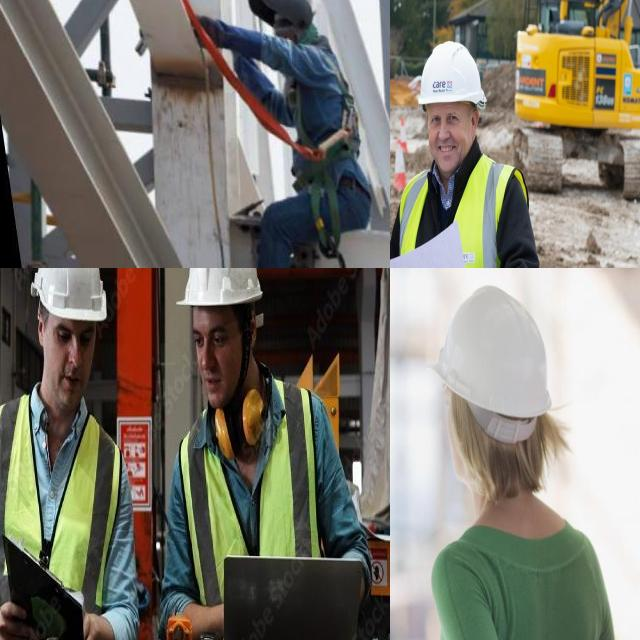Ear-protection: (192, 383, 293, 441)
Harness: (183, 0, 358, 162)
face_nomask: (429, 106, 470, 174)
head_helmet: (432, 282, 557, 421), (418, 40, 486, 111), (30, 268, 109, 324), (179, 268, 265, 309)
person: (142, 268, 365, 640), (414, 269, 632, 640), (0, 268, 149, 640), (398, 38, 534, 268)
vest: (175, 394, 327, 640), (0, 386, 127, 640), (398, 153, 529, 268)
